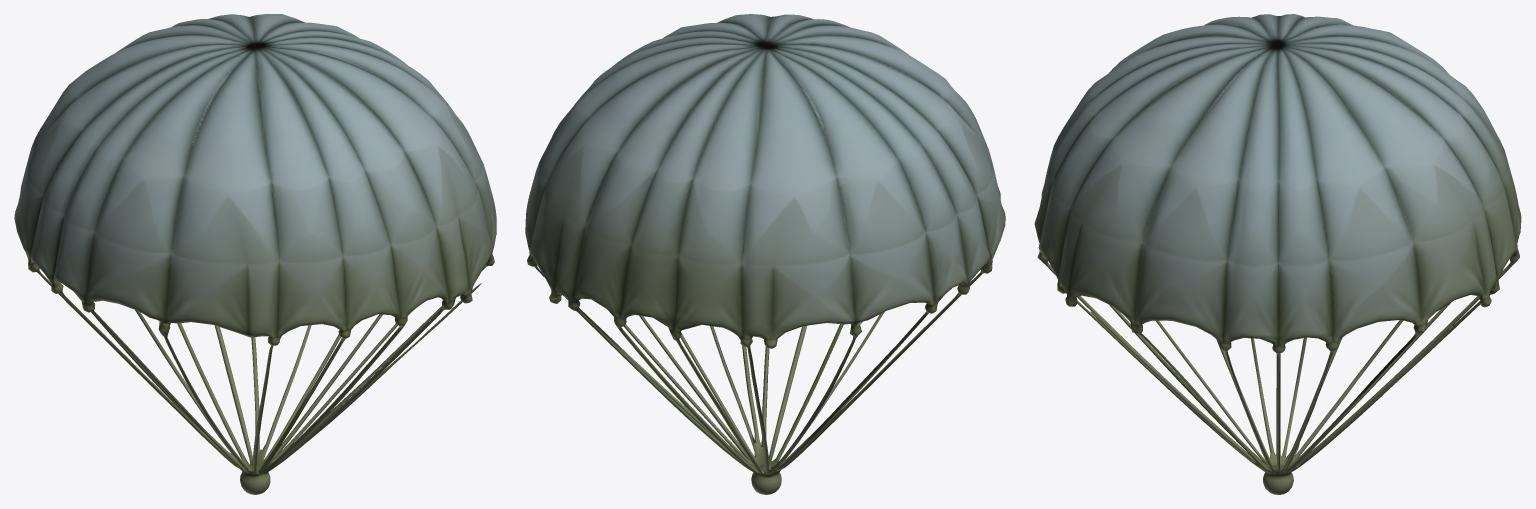
The model's file is 降落伞.glb.
3 views of the same model, side by side, from view 1: azimuth 30°, elevation 25°; view 2: azimuth 150°, elevation 25°; view 3: azimuth 270°, elevation 25° (orthographic).
Visible parts, largest first — view 1: Retopo_node_0; view 2: Retopo_node_0; view 3: Retopo_node_0.
Part boxes in pixels (left/top/right/bottom): Retopo_node_0: left=14, top=14, right=496, bottom=494; Retopo_node_0: left=525, top=14, right=1005, bottom=494; Retopo_node_0: left=1034, top=14, right=1521, bottom=494.
Size of the model in its own units: 1.09 by 1.13 by 1.1.
1 material, 1 textured.
